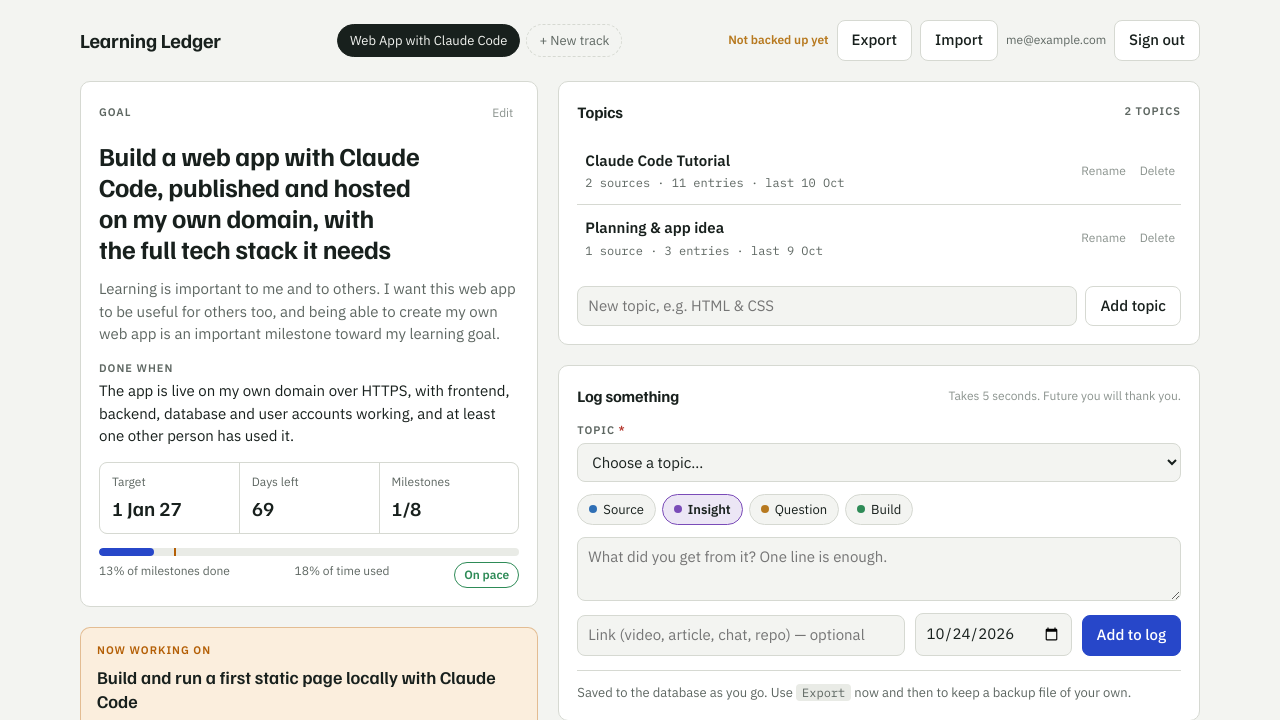
it: Accounts › goes back to sign-in when the session ends while you're working
Expected: the heading "Build a web app with Claude Code" is shown, [99,138,419,265]
Select "Planning & app idea" in the dropdown with id "addTopic". click: (879, 462)
box: [577,442,1181,482]
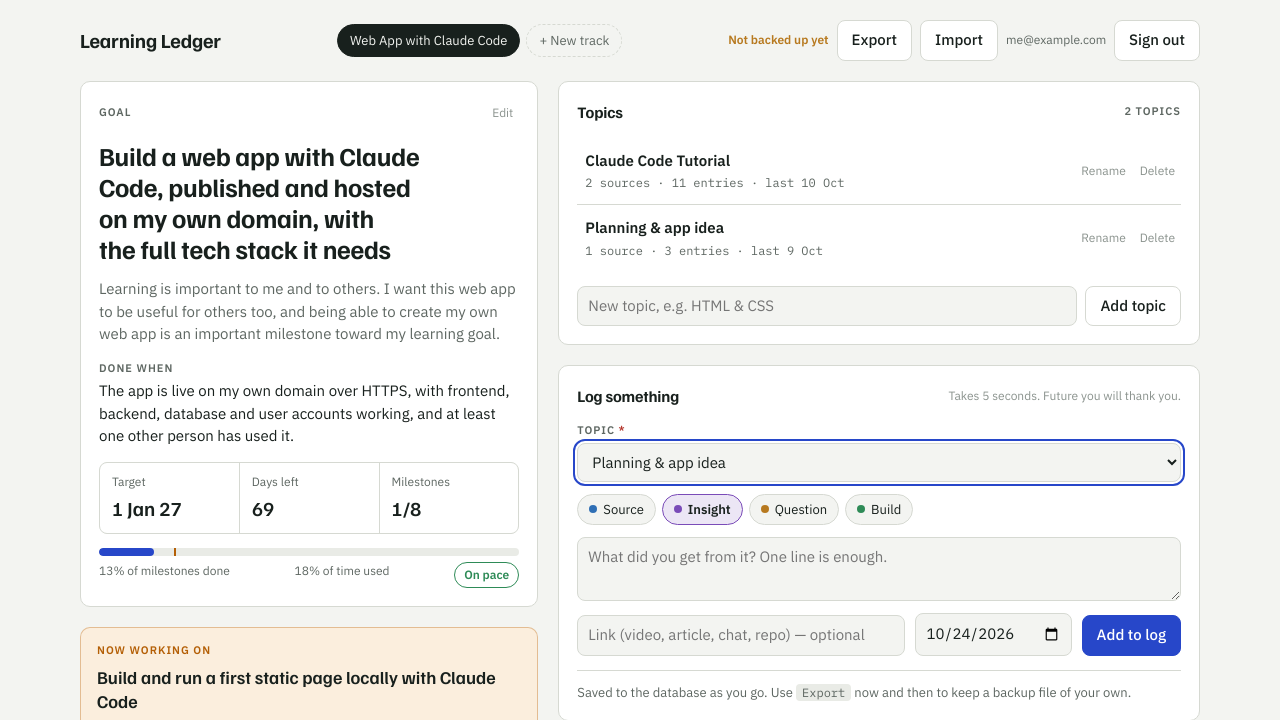
Type "Typed after the session ended" into the text box with id "addText". click: (879, 569)
box: [577,537,1181,601]
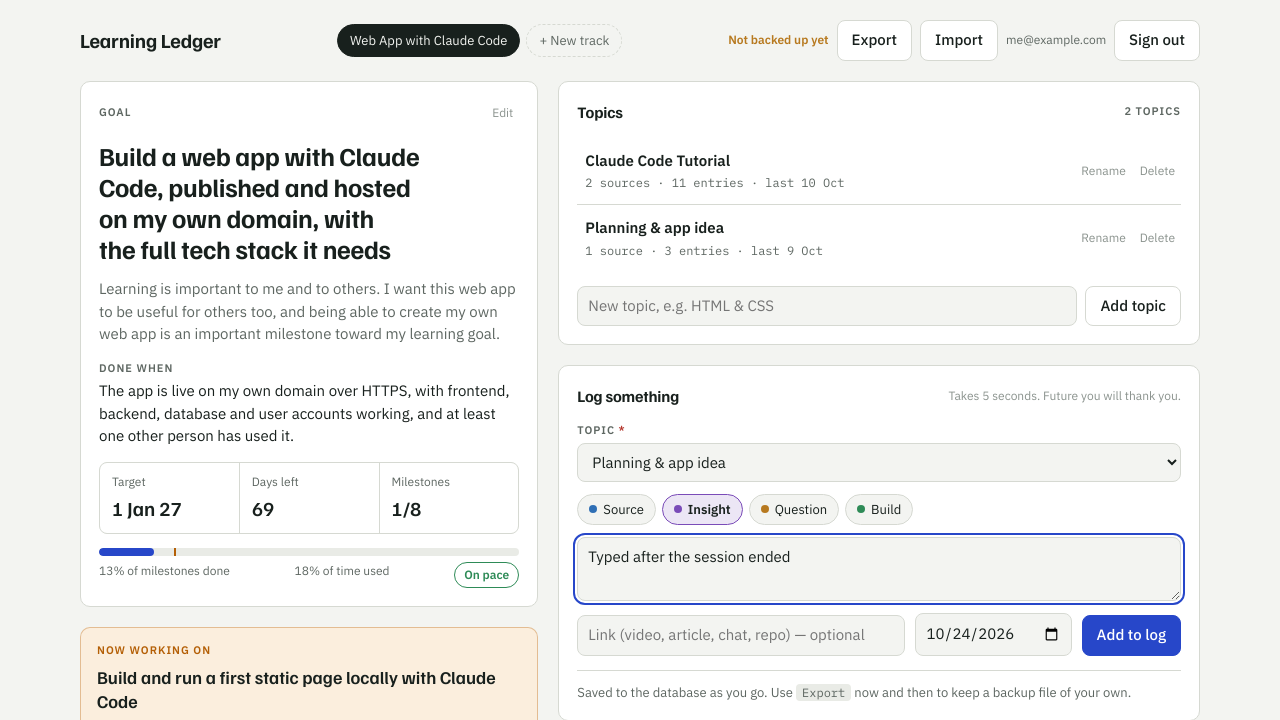
Click the button "Add to log". click: (1131, 635)
box: [1082,615,1181,656]
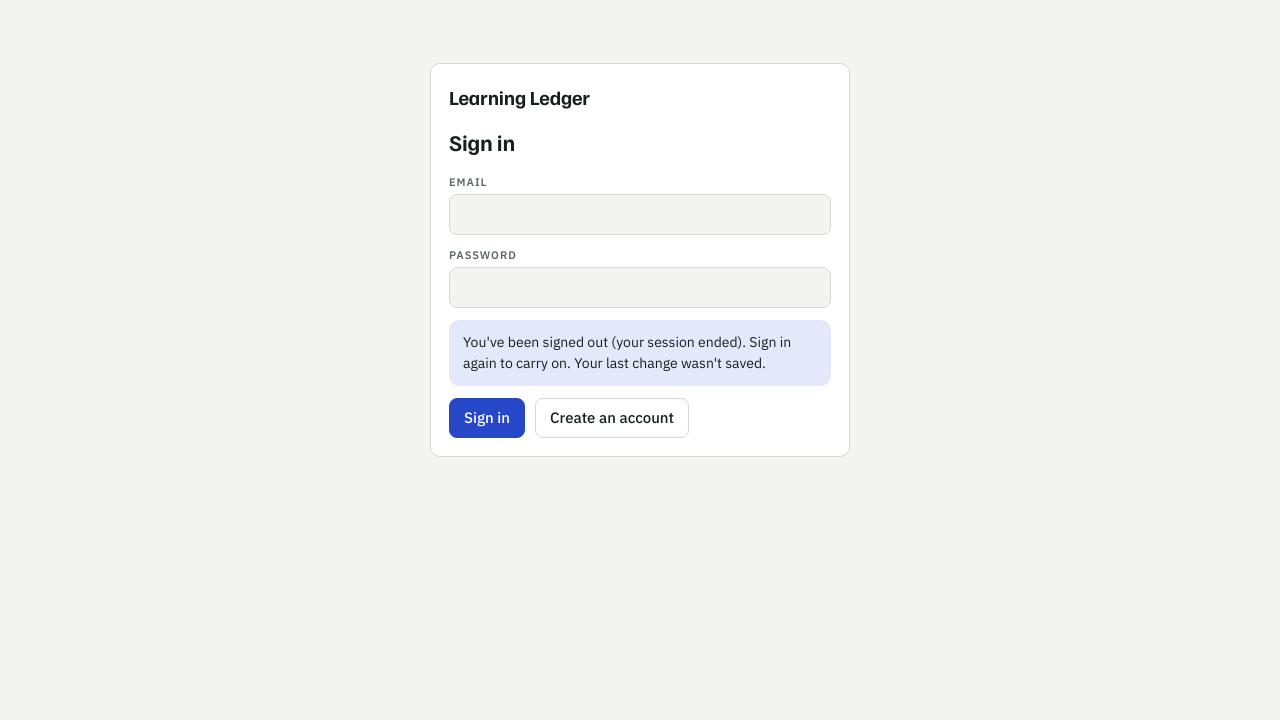
Expected: the heading "Sign in" is shown, [449,128,515,156]
